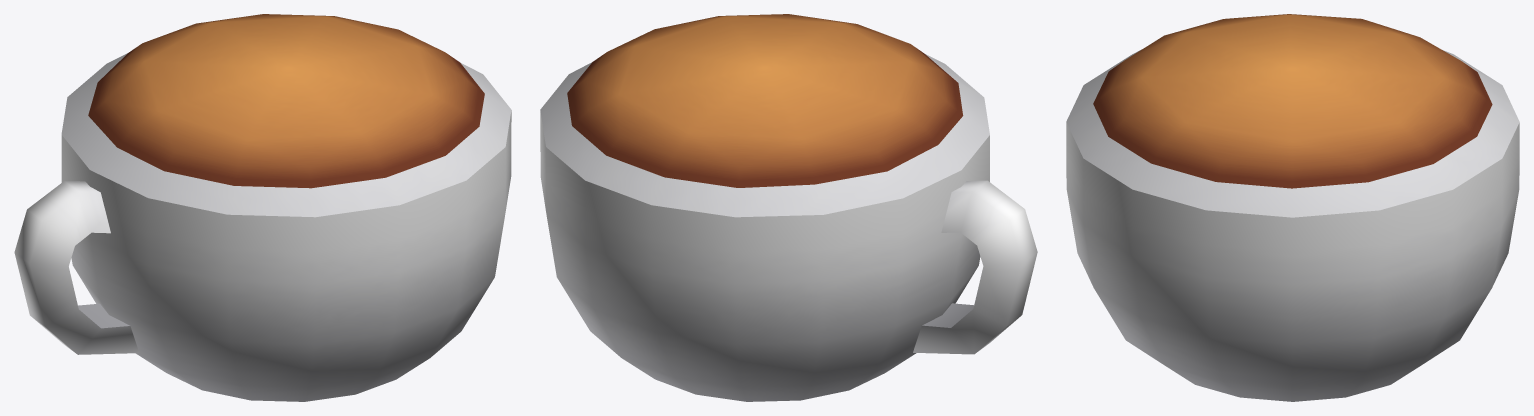
File: m_Cup02_Coffee06.fbx
3 views of the same model, side by side, from view 1: azimuth 30°, elevation 25°; view 2: azimuth 150°, elevation 25°; view 3: azimuth 270°, elevation 25° (orthographic).
Visible parts, largest first — view 1: m_Cup02_Coffee06; view 2: m_Cup02_Coffee06; view 3: m_Cup02_Coffee06.
Part boxes in pixels (x1=…): m_Cup02_Coffee06: x1=14, y1=14, x2=511, y2=401; m_Cup02_Coffee06: x1=540, y1=14, x2=1037, y2=401; m_Cup02_Coffee06: x1=1066, y1=14, x2=1519, y2=401.
Size of the model in its own units: 14.87 by 8.5 by 12.68.
